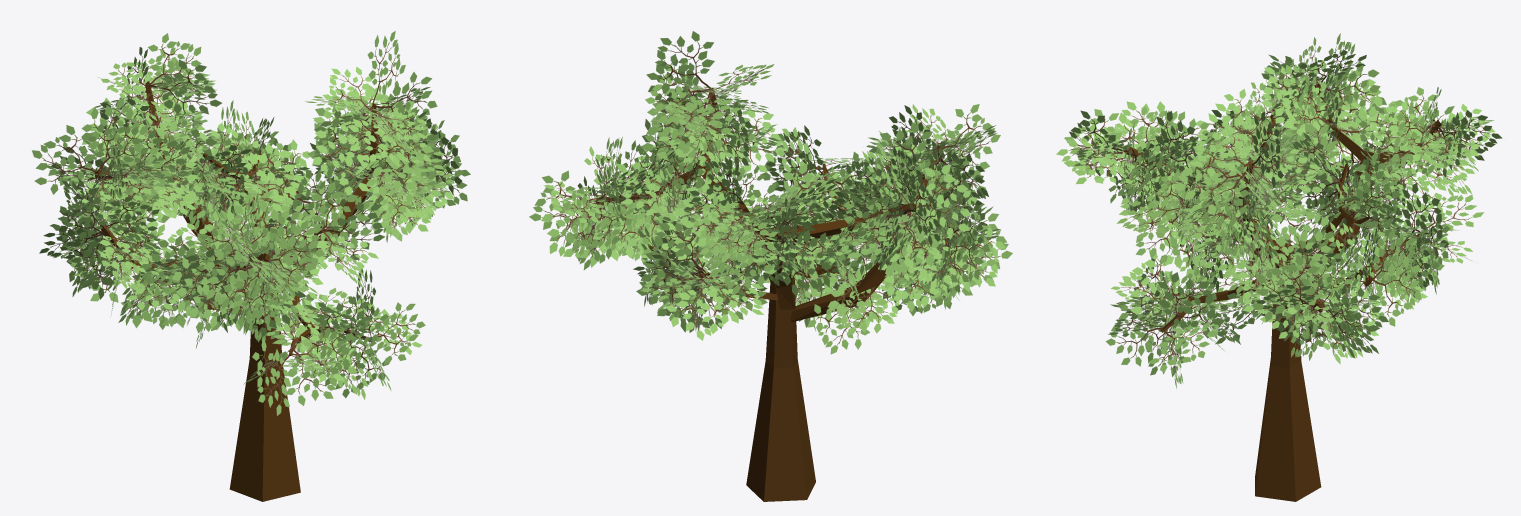
The model's file is tree_59_lev1.glb.
3 renders of one model, left to right at view 1: azimuth 30°, elevation 25°; view 2: azimuth 150°, elevation 25°; view 3: azimuth 270°, elevation 25°, orthographic. The views are drawn at different scales.
Parts seen in each view (by area): view 1: tree_59_lev1; view 2: tree_59_lev1; view 3: tree_59_lev1.
Part boxes in pixels (box(x1,y1,x2,y2)): tree_59_lev1: box(31, 30, 470, 501); tree_59_lev1: box(529, 31, 1012, 501); tree_59_lev1: box(1056, 33, 1502, 501).
Bounding box in the file's own units: 11.48 × 10.72 × 10.03.
2 materials, 1 textured.
